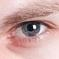eye: (22, 23, 39, 36)
